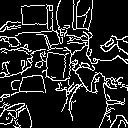cube: (42, 44, 76, 82)
